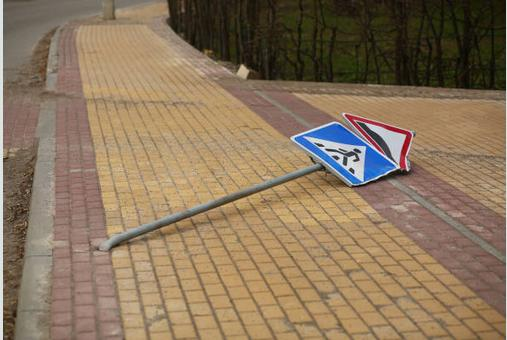obstructed_road_sign: (342, 112, 414, 172)
road_sign: (291, 121, 397, 187)
